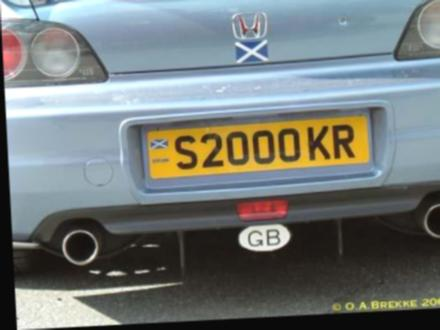License_Plate: (139, 111, 377, 186)
